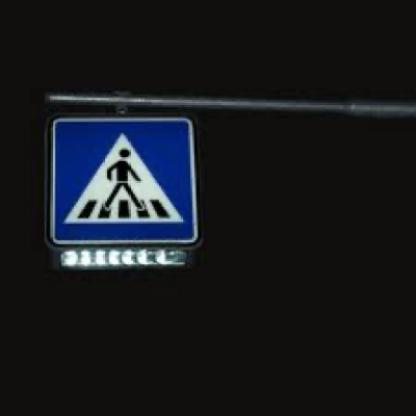crosswalk: (46, 112, 198, 244)
